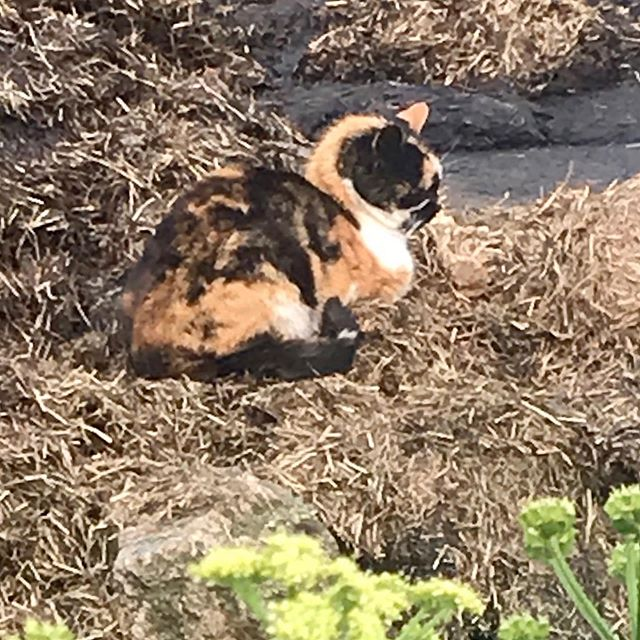animal: (94, 90, 489, 381)
